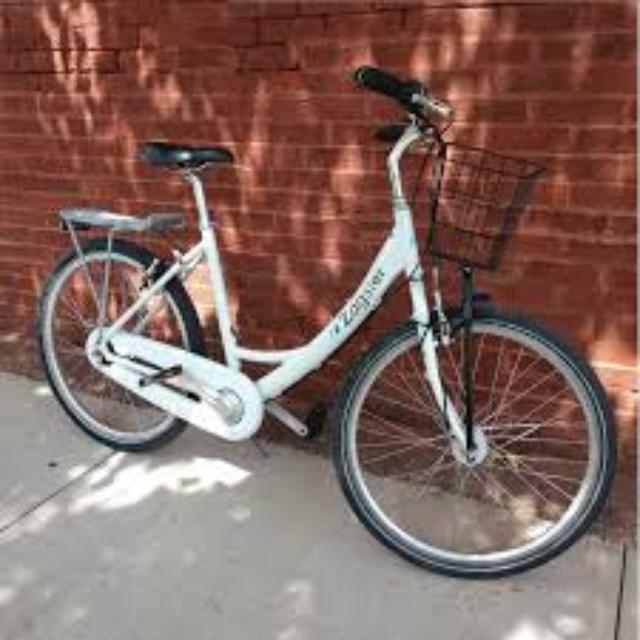obstacle: (28, 59, 632, 561)
